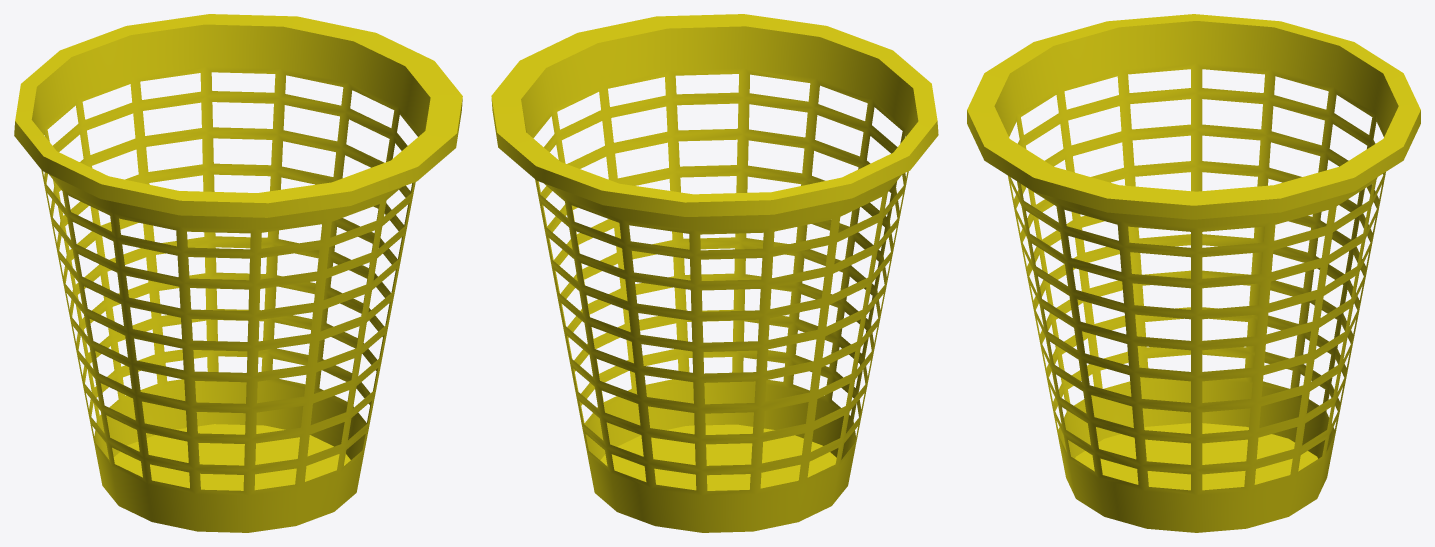
Rendered from dust_bin.dae.
The picture shows the model from 3 angles, left to right: view 1: azimuth 30°, elevation 25°; view 2: azimuth 150°, elevation 25°; view 3: azimuth 270°, elevation 25°; orthographic projection.
Parts seen in each view (by area): view 1: Cylinder; view 2: Cylinder; view 3: Cylinder.
Boxes of the visible parts, box(x1,y1,x2,y2) form: Cylinder: box(14, 14, 462, 532); Cylinder: box(491, 14, 938, 532); Cylinder: box(967, 14, 1420, 532).
Bounding box in the file's own units: 0.6928 × 0.6911 × 0.6243.
